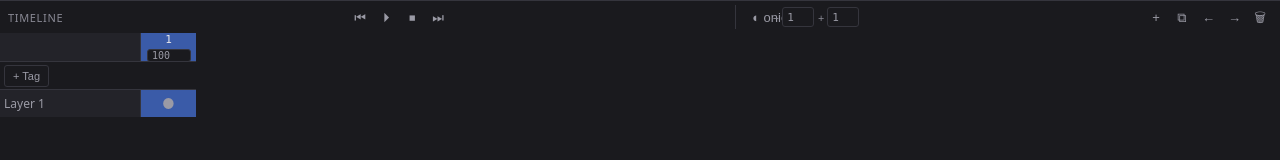
grid construction › gains a column when a frame is added
Click the button "+". click: (1156,17)
box: [1144,5,1168,29]
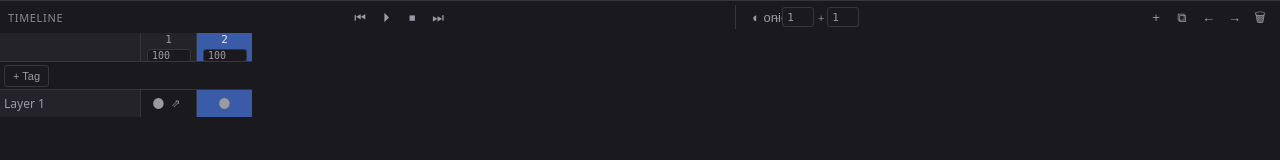
Expected: the number of elements with class "timeline-frame-head" is 2, [140,33,196,61]; [196,33,252,61]
Expected: the number of buttons with class "timeline-cell" is 2, [140,89,196,117]; [196,89,252,117]
